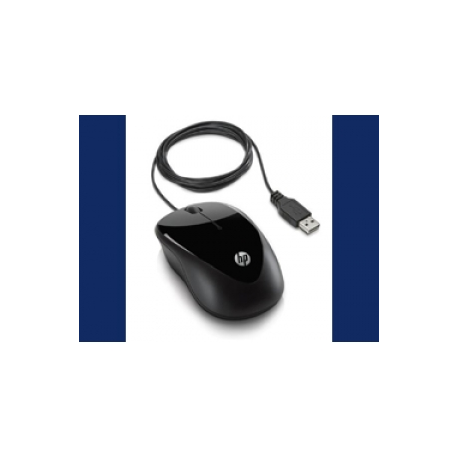hp-mouse-X1000: (145, 116, 322, 325)
